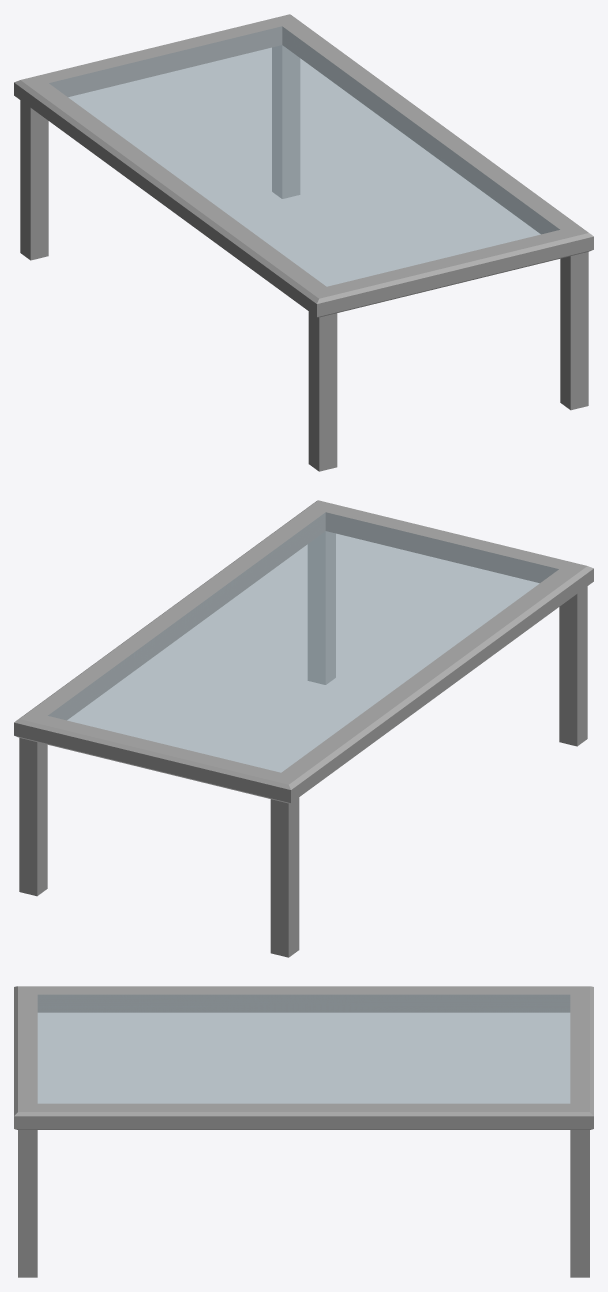
File: Salontafel2-glas.fbx
3 views of the same model, one above another, from view 1: azimuth 30°, elevation 25°; view 2: azimuth 150°, elevation 25°; view 3: azimuth 270°, elevation 25° (orthographic). The views are drawn at different scales.
Parts seen in each view (by area): view 1: pCube44, pasted__group5; view 2: pCube44, pasted__group5; view 3: pCube44, pasted__group5.
Boxes of the visible parts, left/top/right/bottom form: pCube44: left=49, top=26, right=559, bottom=286; pasted__group5: left=14, top=14, right=593, bottom=471; pCube44: left=48, top=512, right=558, bottom=772; pasted__group5: left=14, top=500, right=593, bottom=957; pCube44: left=37, top=994, right=570, bottom=1103; pasted__group5: left=14, top=986, right=593, bottom=1277.
Size of the model in its own units: 1.54 by 0.92 by 2.92.
